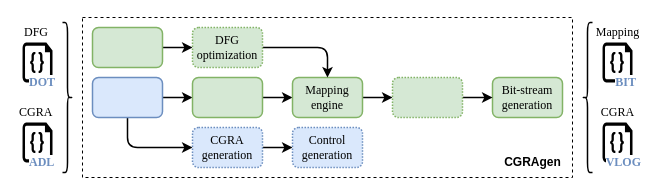
This 669x195 diagram has some shape labels left out. Each missing label, with the centre of its shape:
"Application modeling" goes at (x=127, y=47).
"Approx- imation" goes at (x=427, y=97).
"Architecture modeling" goes at (x=127, y=97).
"MRRG conversion" goes at (x=227, y=97).
